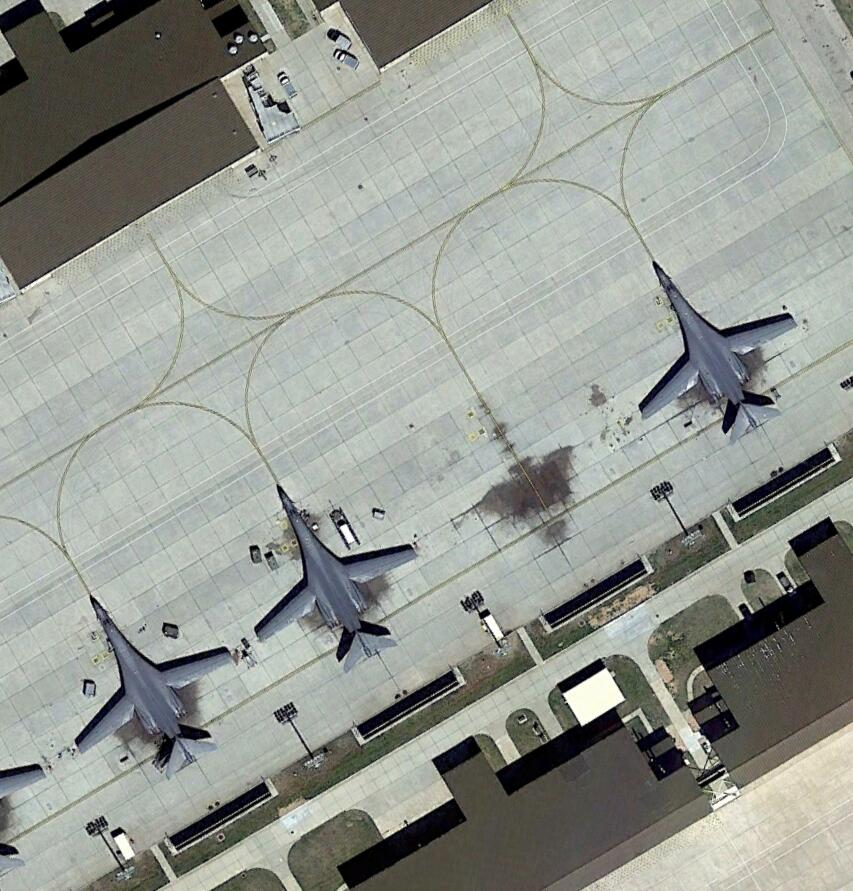A10: (252, 481, 421, 673), (69, 593, 237, 779), (637, 257, 798, 444)
